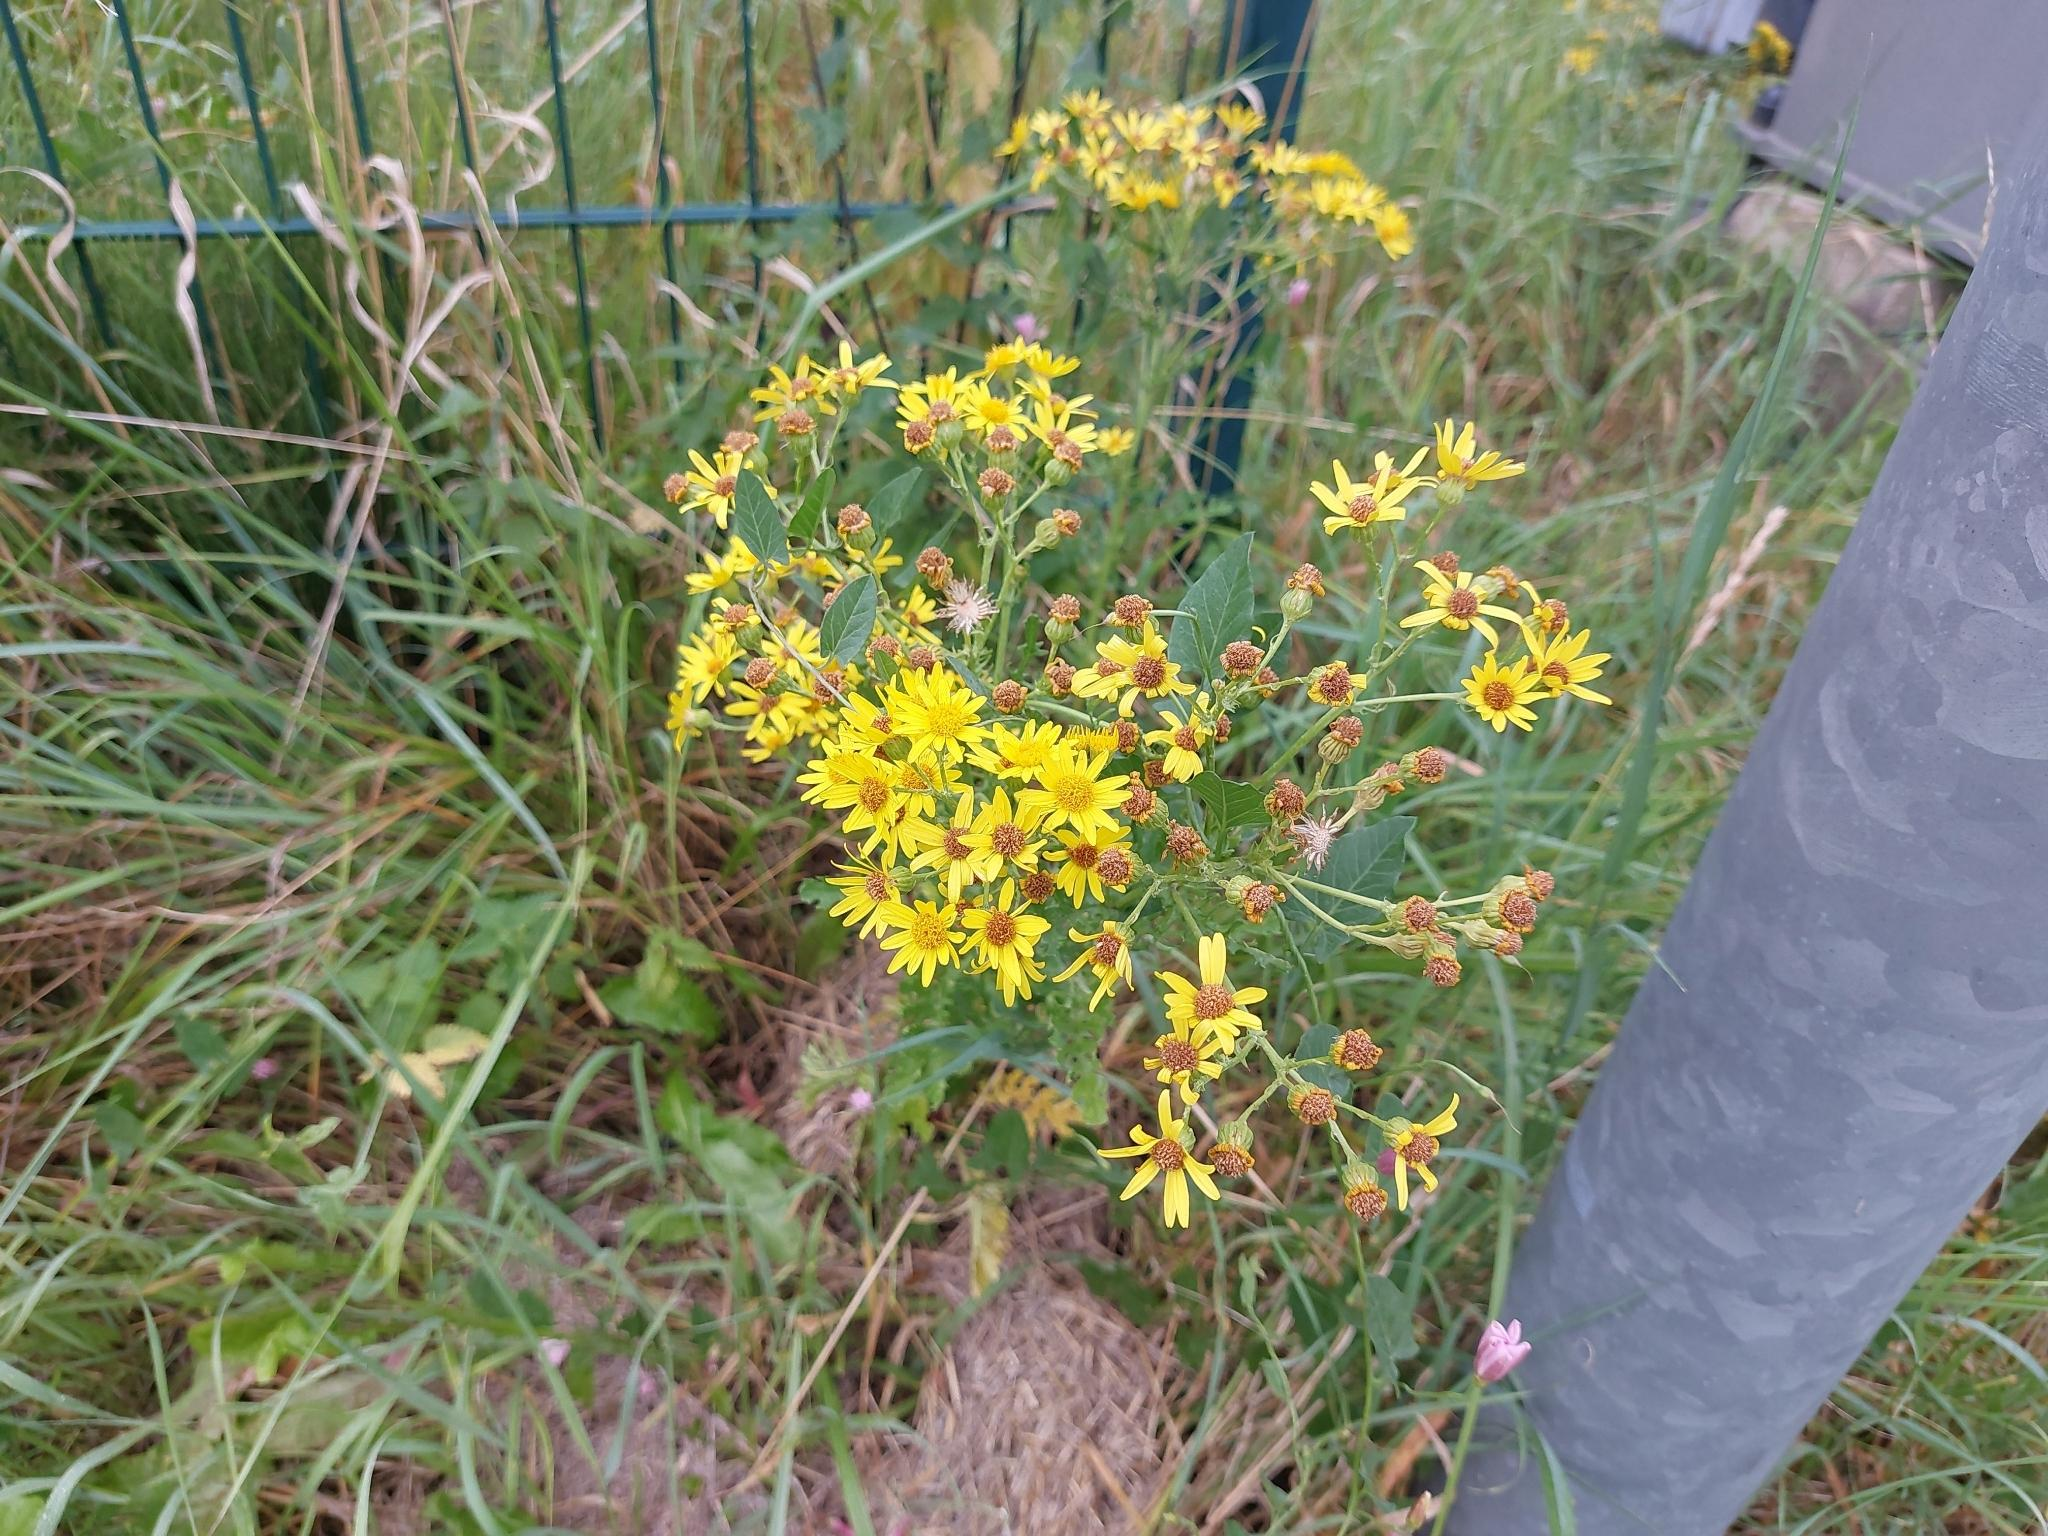Jacobaea vulgaris: (608, 300, 1643, 1402), (990, 84, 1426, 415)
